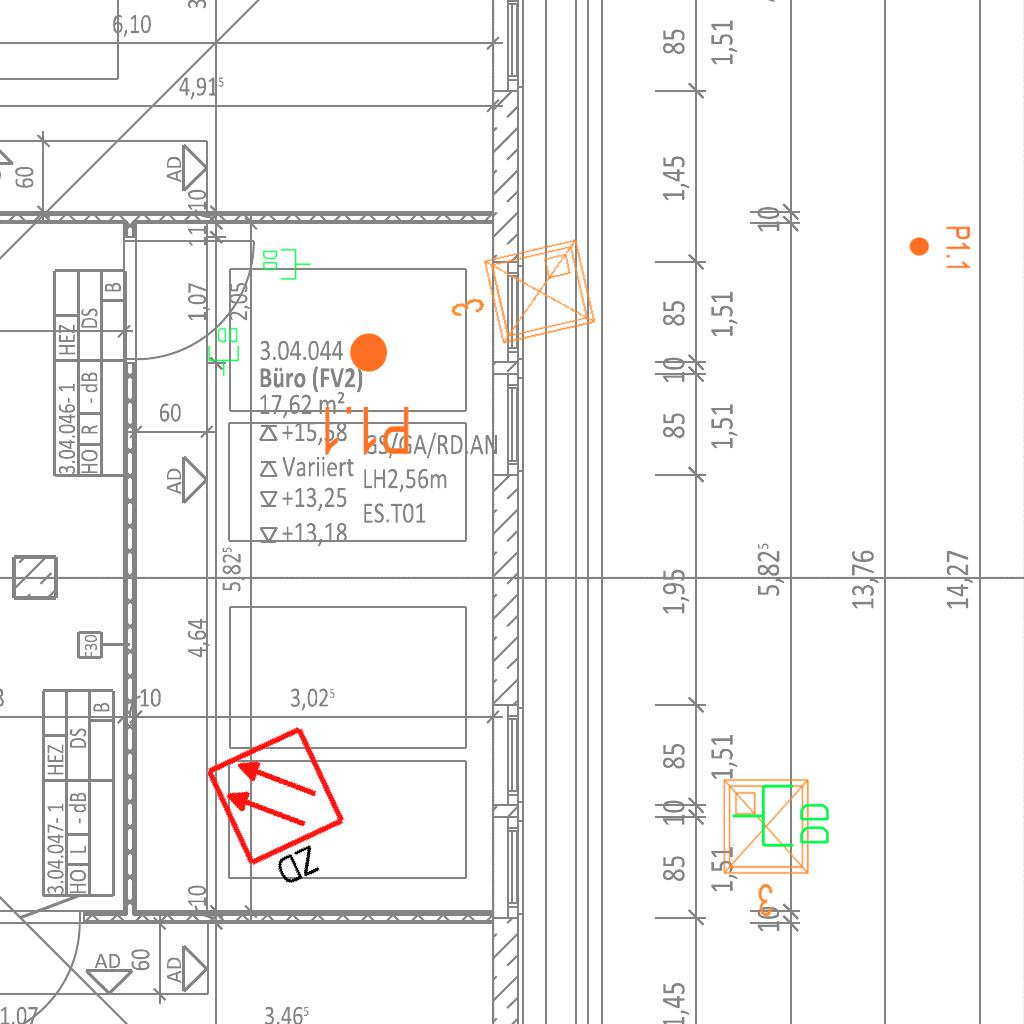Datenanschluss_zweifach: (730, 782, 833, 851), (207, 326, 241, 377), (261, 247, 312, 281)
Downlight_LED_Einbauleuchten_Flur: (319, 330, 412, 458), (908, 225, 972, 271)
Einbaudownlights_LED_Konferenzraeume: (435, 230, 605, 366), (716, 772, 820, 922)
ZD_Melder_in_Zwischendecke_mit_Revisionsoeffnung_mind_40_x_40_cm: (201, 720, 369, 905)
